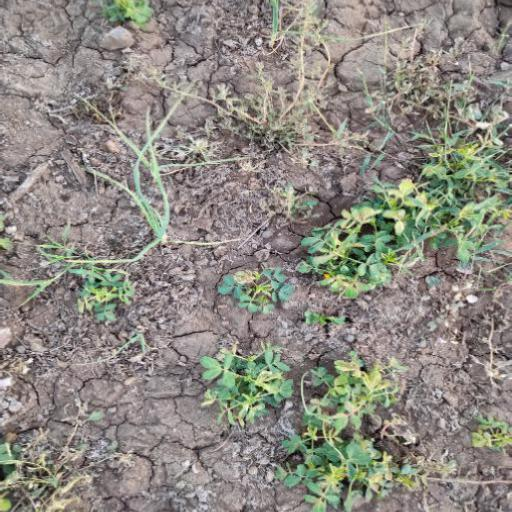weed: (198, 343, 422, 512), (63, 114, 245, 306), (291, 132, 496, 302)
